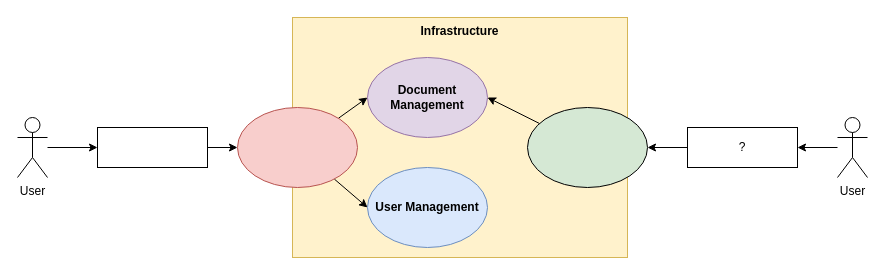
Image size: 885x275. Some labels were removed from this diagram. Each missing label, with the centre of its shape:
"Custom Client Integration" goes at point 587,147.
"Web Browser" goes at point 152,147.
"Web Portal" goes at point 297,147.
